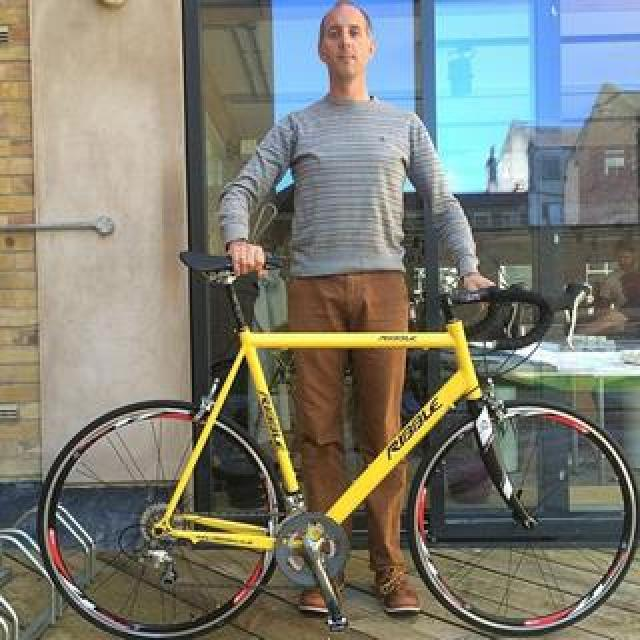MC-Bike: (220, 8, 496, 610)
Person: (36, 248, 640, 640)
